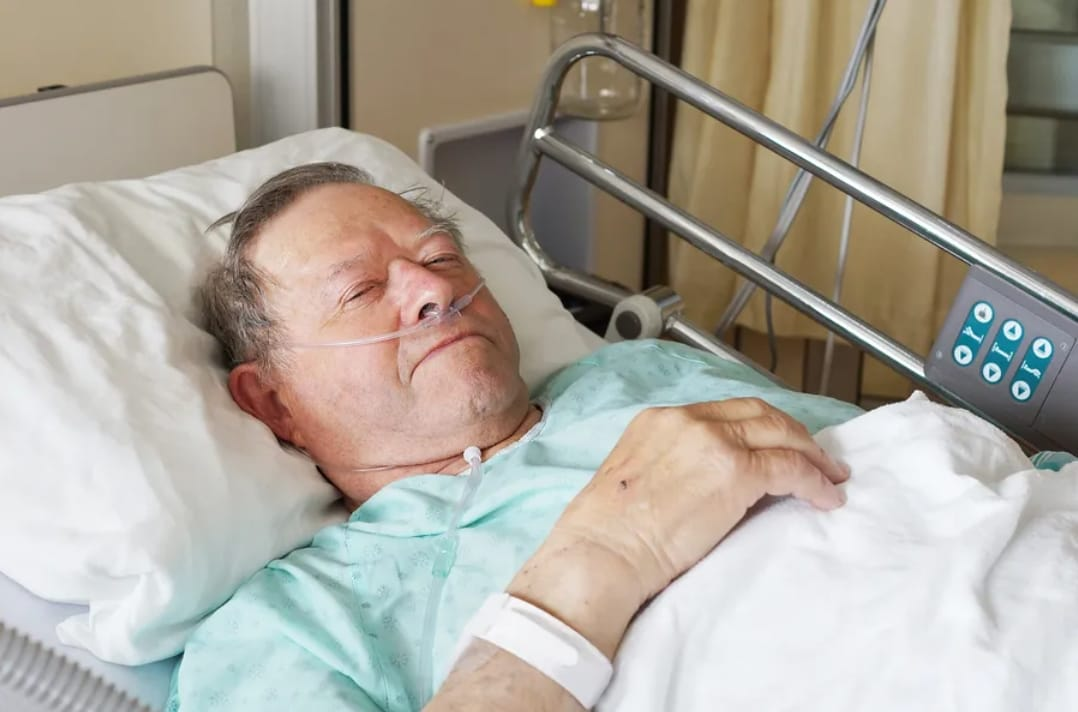sleeping: (97, 158, 937, 712)
